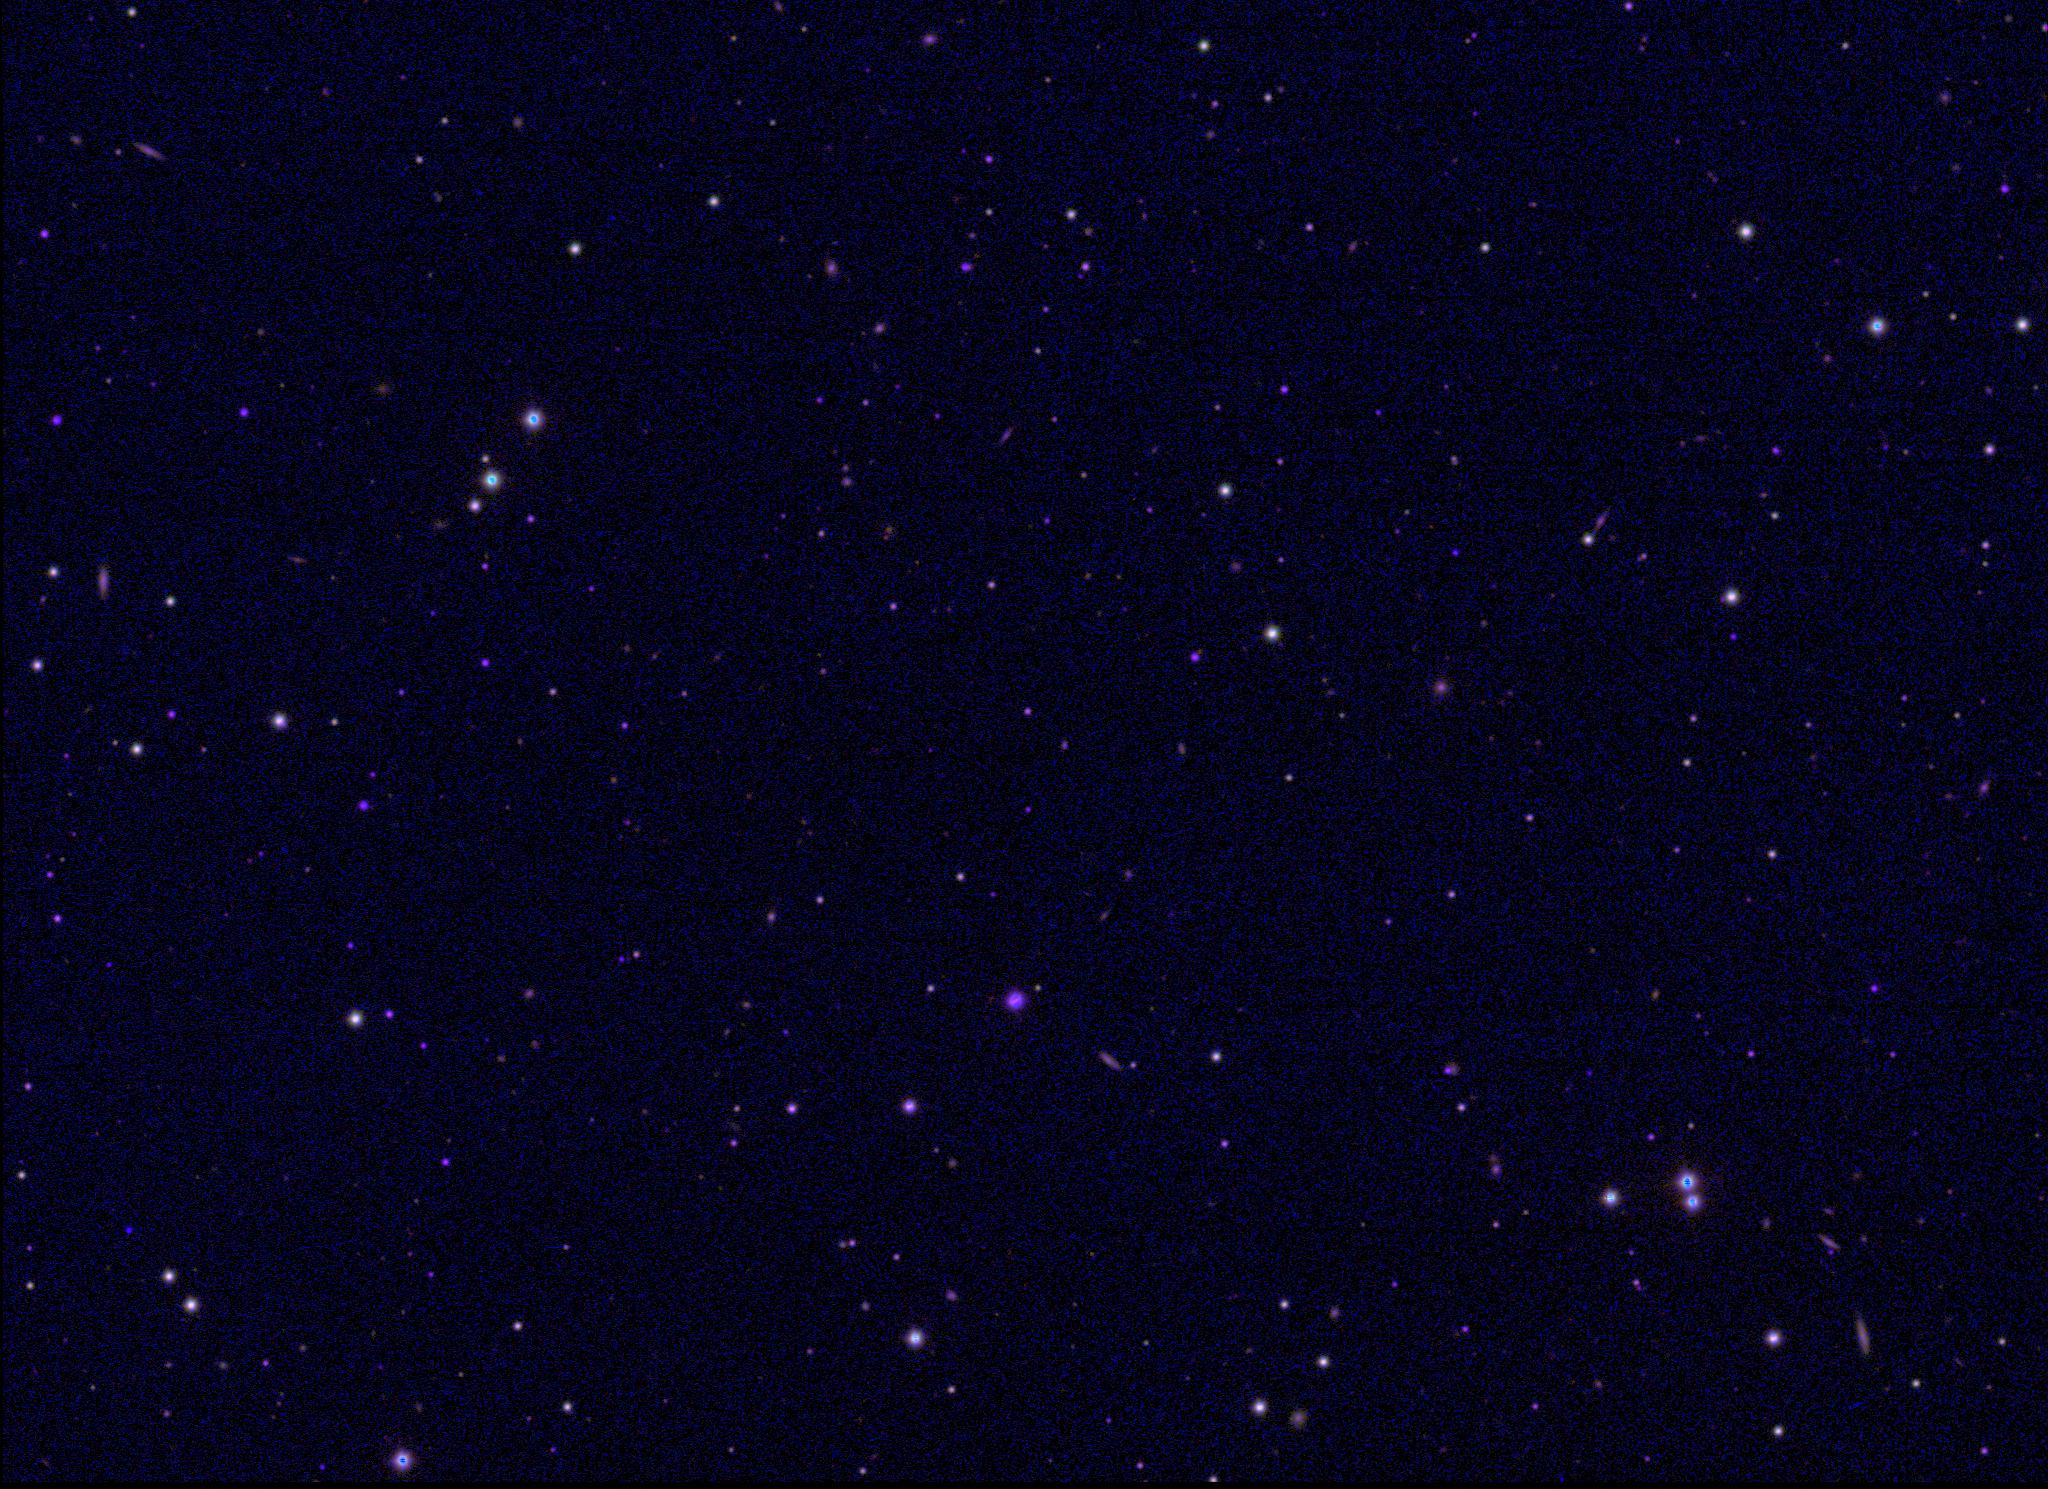L: (122, 1222, 137, 1234)
